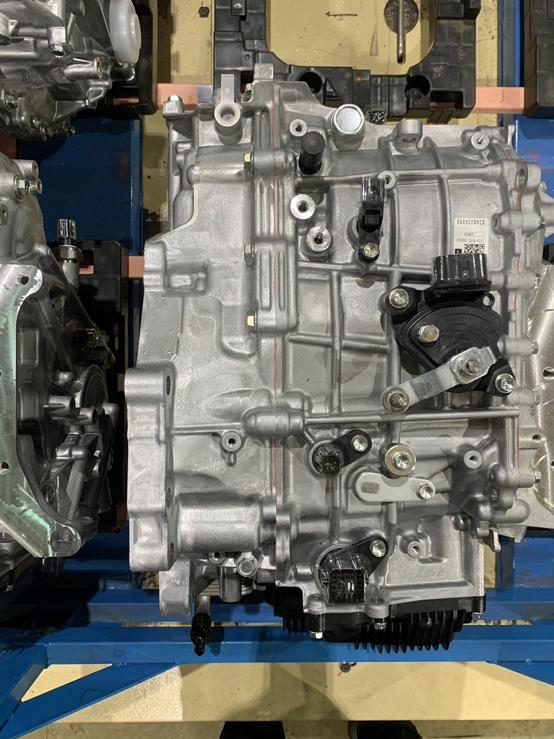gearbox_type2: (131, 83, 553, 649)
gearbox_type2_FP1: (387, 279, 517, 416)
gearbox_type2_FP2: (241, 149, 301, 332)
gearbox_type2_FP3: (243, 406, 305, 441)
